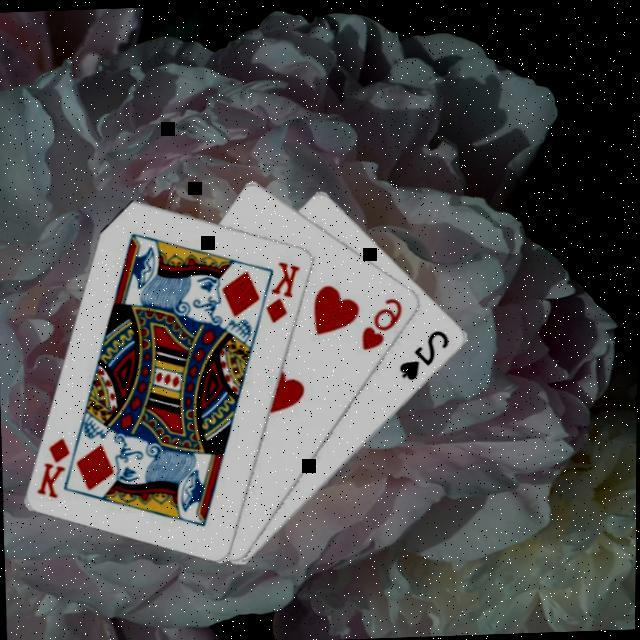2S: (394, 324, 453, 382)
6H: (356, 292, 406, 352)
KD: (261, 255, 303, 324), (31, 432, 73, 499)
